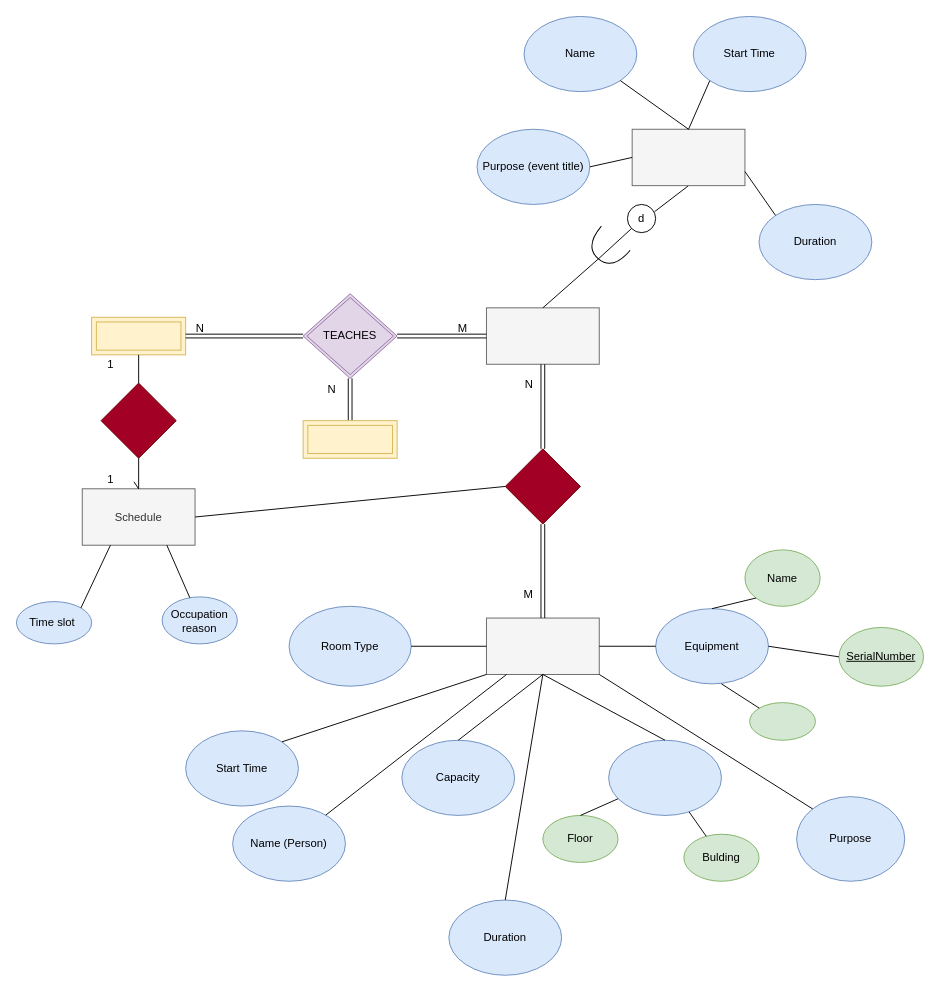
Some shapes in this 940 by 992 pixel diagram are drawn without their labels. The shapes that lost their labels are listed below. From the top down, each one's centre as x and y in pixels, then its label:
At [688,157]: "Person".
At [138,335]: "Semester".
At [542,335]: "Instructor".
At [138,420]: "IS DIFFERENT".
At [349,439]: "Course Sector".
At [542,486]: "BOOKS".
At [542,645]: "Room".
At [782,721]: "Type".
At [664,777]: "Room Number".
